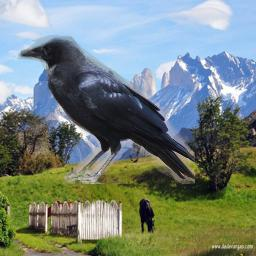Crow: (18, 35, 195, 184)
